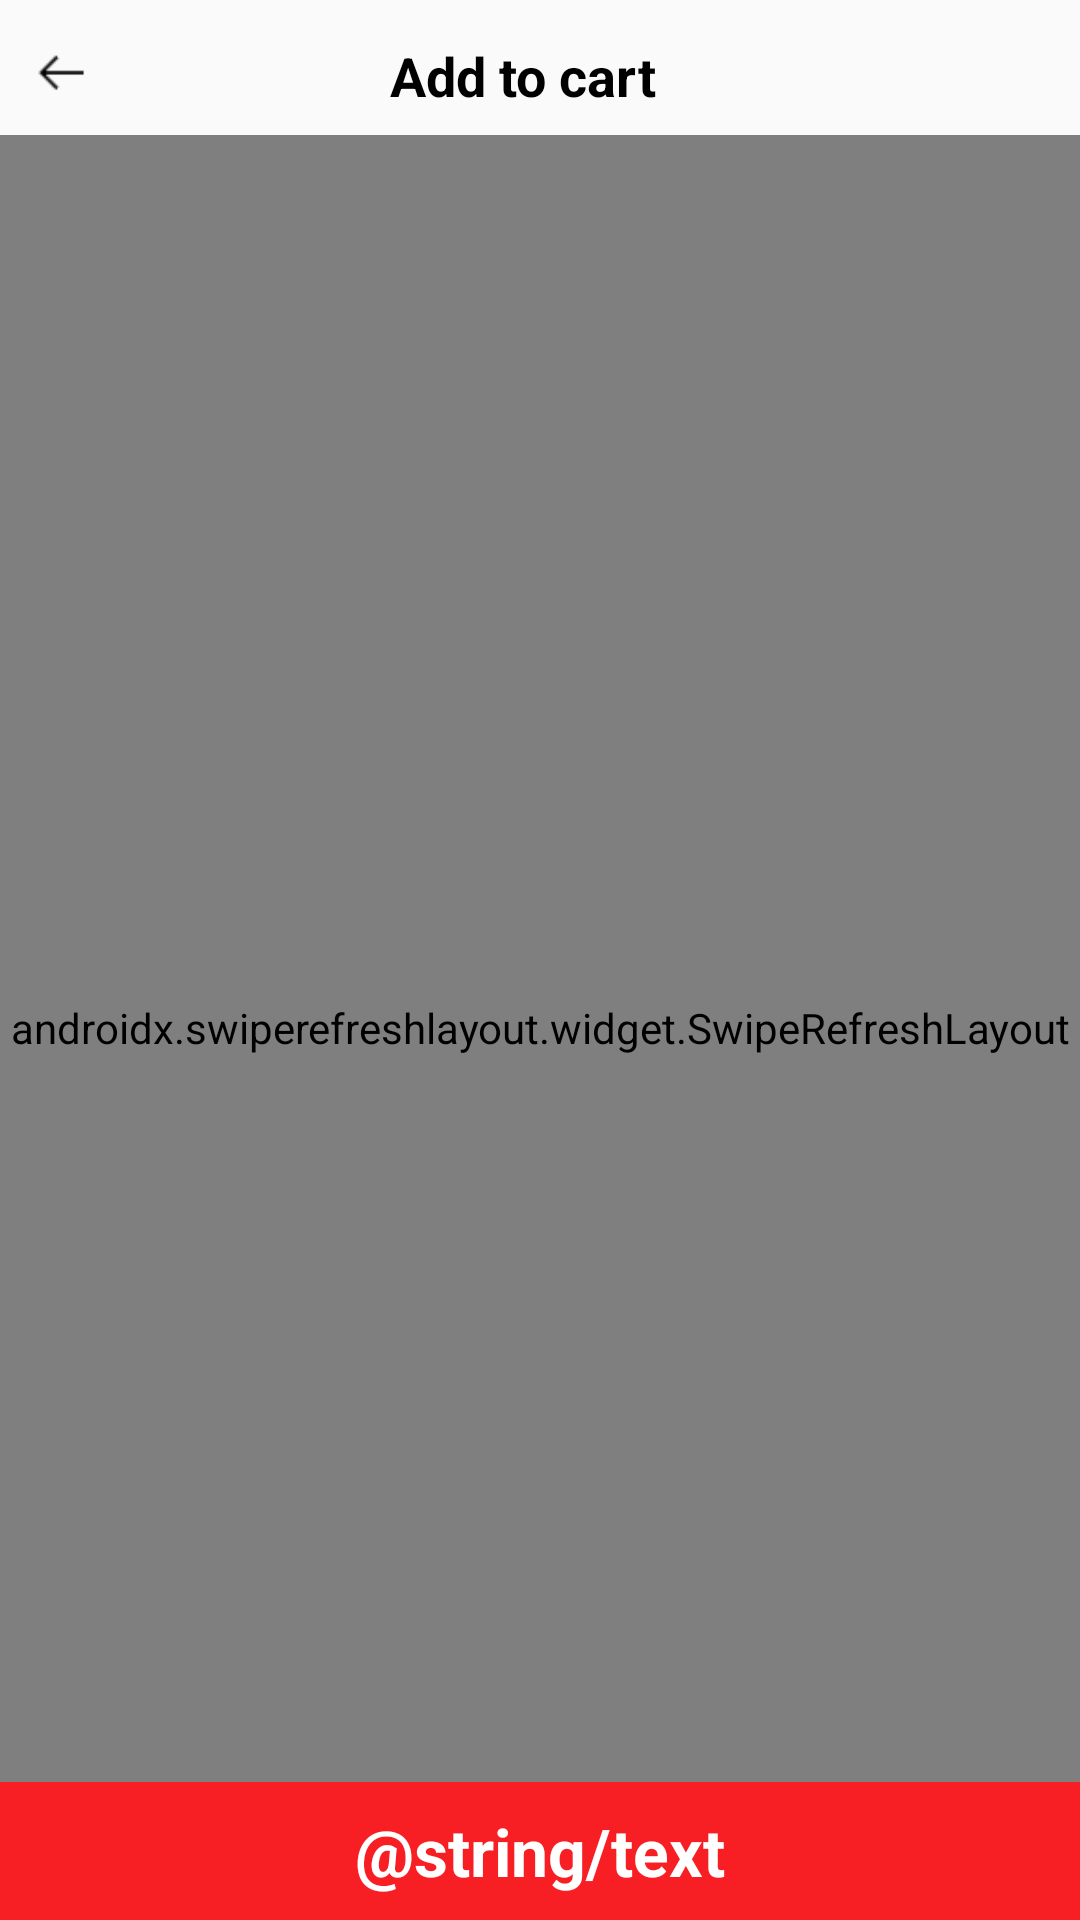

Screen size 1080 x 1920. Icon name, then its box in pixels as (x1, y1, x2, y2):
back: (38, 55, 84, 90)
